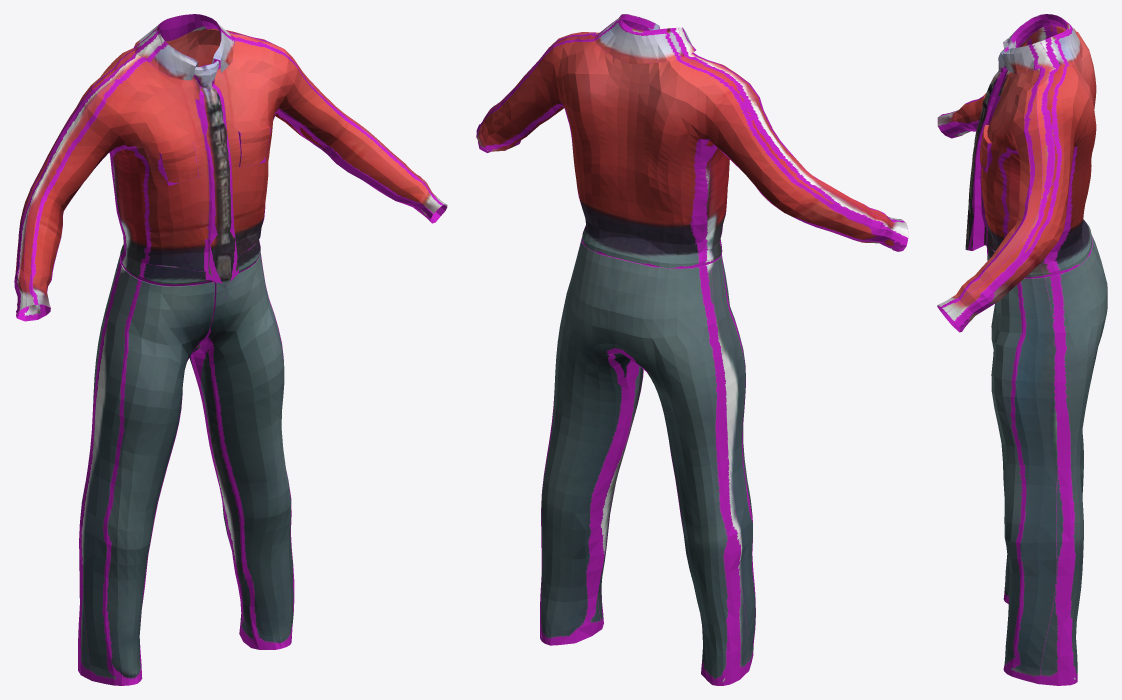
3 renders of one model, left to right at view 1: azimuth 30°, elevation 25°; view 2: azimuth 150°, elevation 25°; view 3: azimuth 270°, elevation 25°, orthographic. The views are drawn at different scales.
Bounding box in the file's own units: 0.6463 × 0.912 × 0.2285.
1 material, 1 textured.
